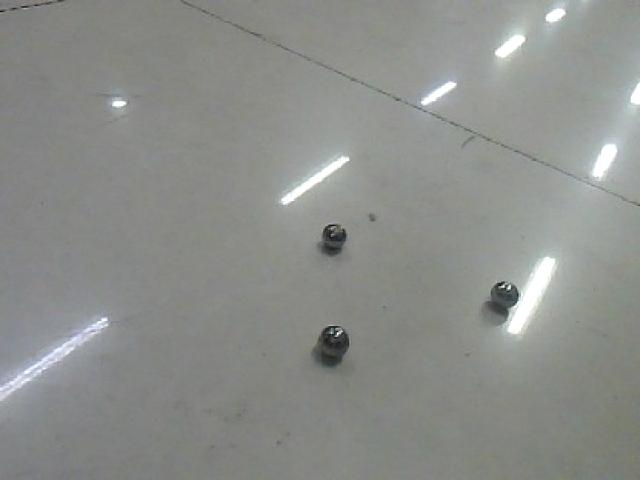steel-ball: (308, 311, 380, 371), (477, 263, 526, 315), (312, 205, 366, 252)
